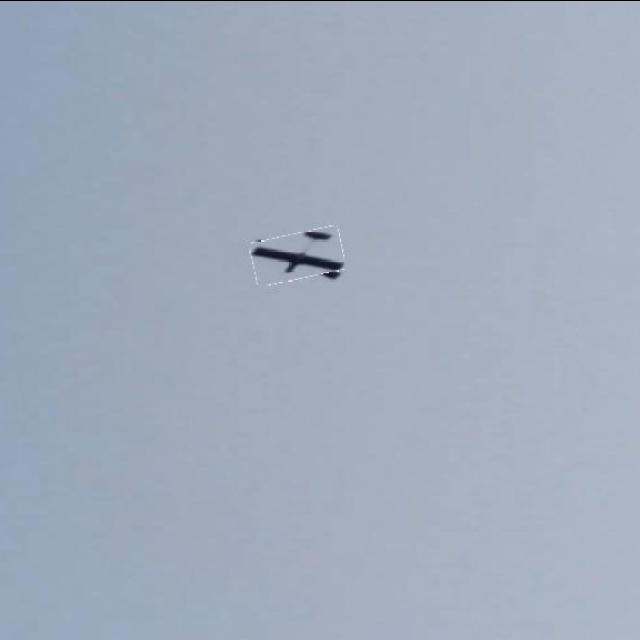plane: (249, 222, 348, 284)
